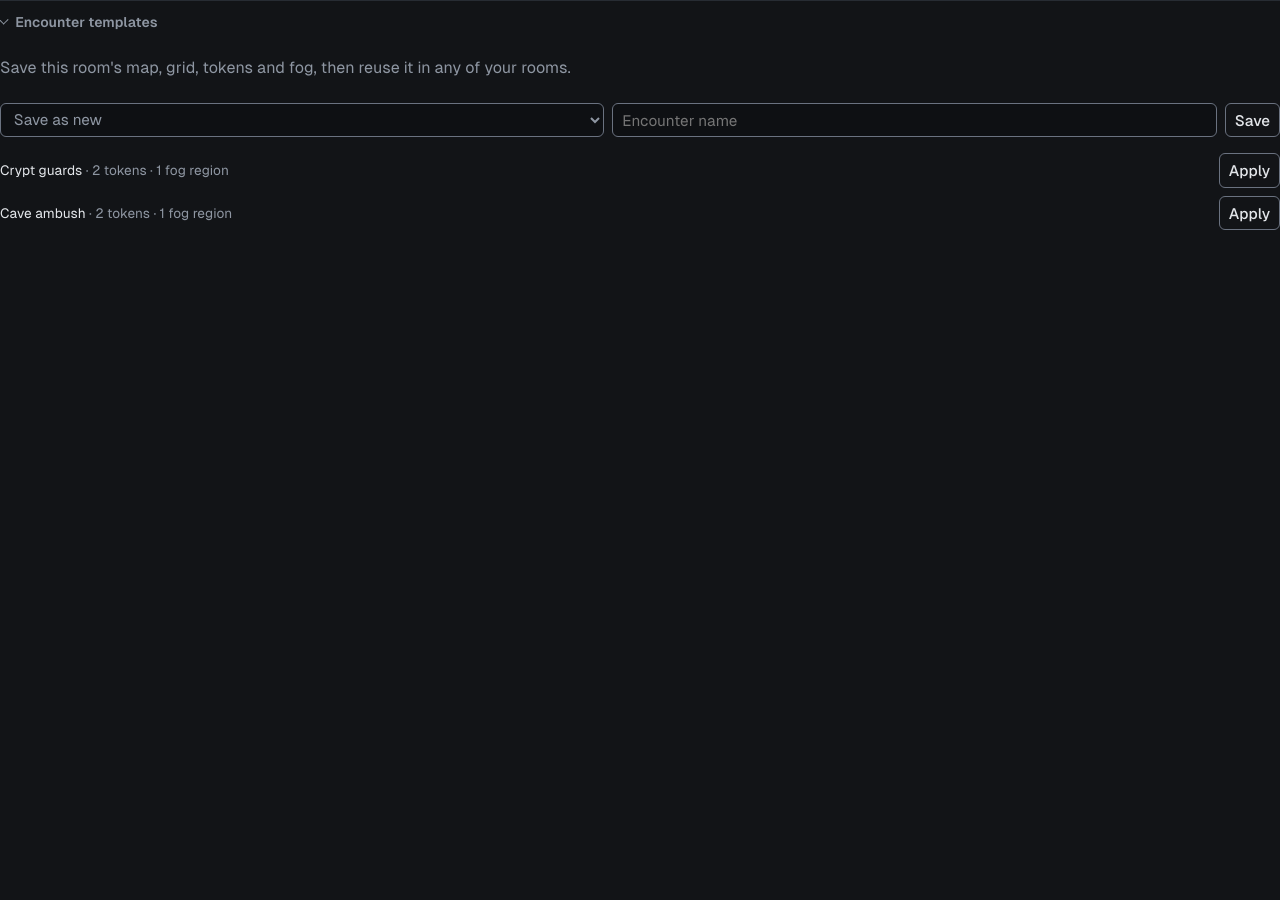
Scenario: replace a template from a room (encounter-templates, ADR 0033) › offers Replace for templates on this room's map, marks the others, and confirms first
This screenshot has width=1280, height=900.
Select "Replace Crypt guards" in the dropdown named "Save to": (302, 120) [0,103,604,137]
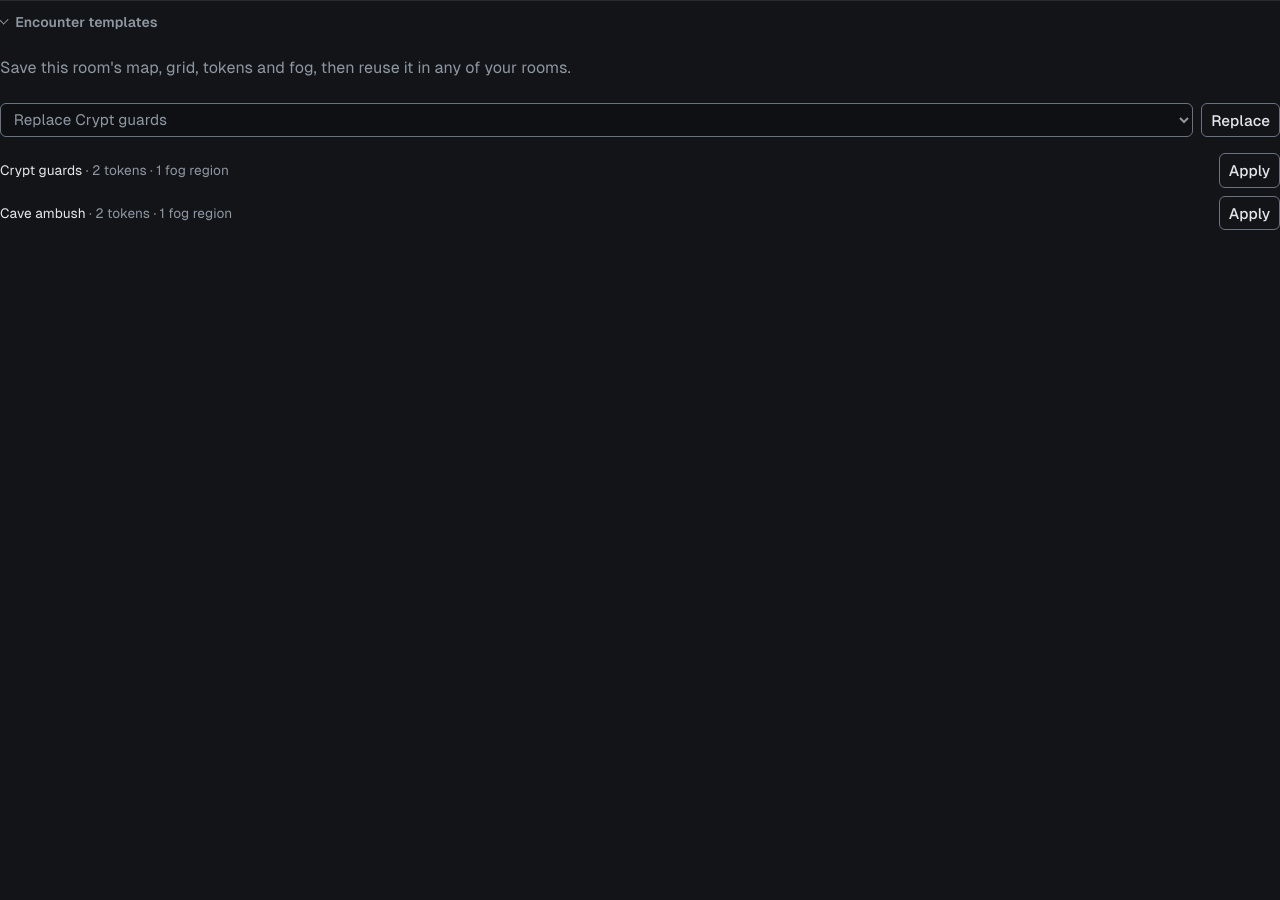
Click the button "Replace": (1241, 120) [1201,103,1279,138]
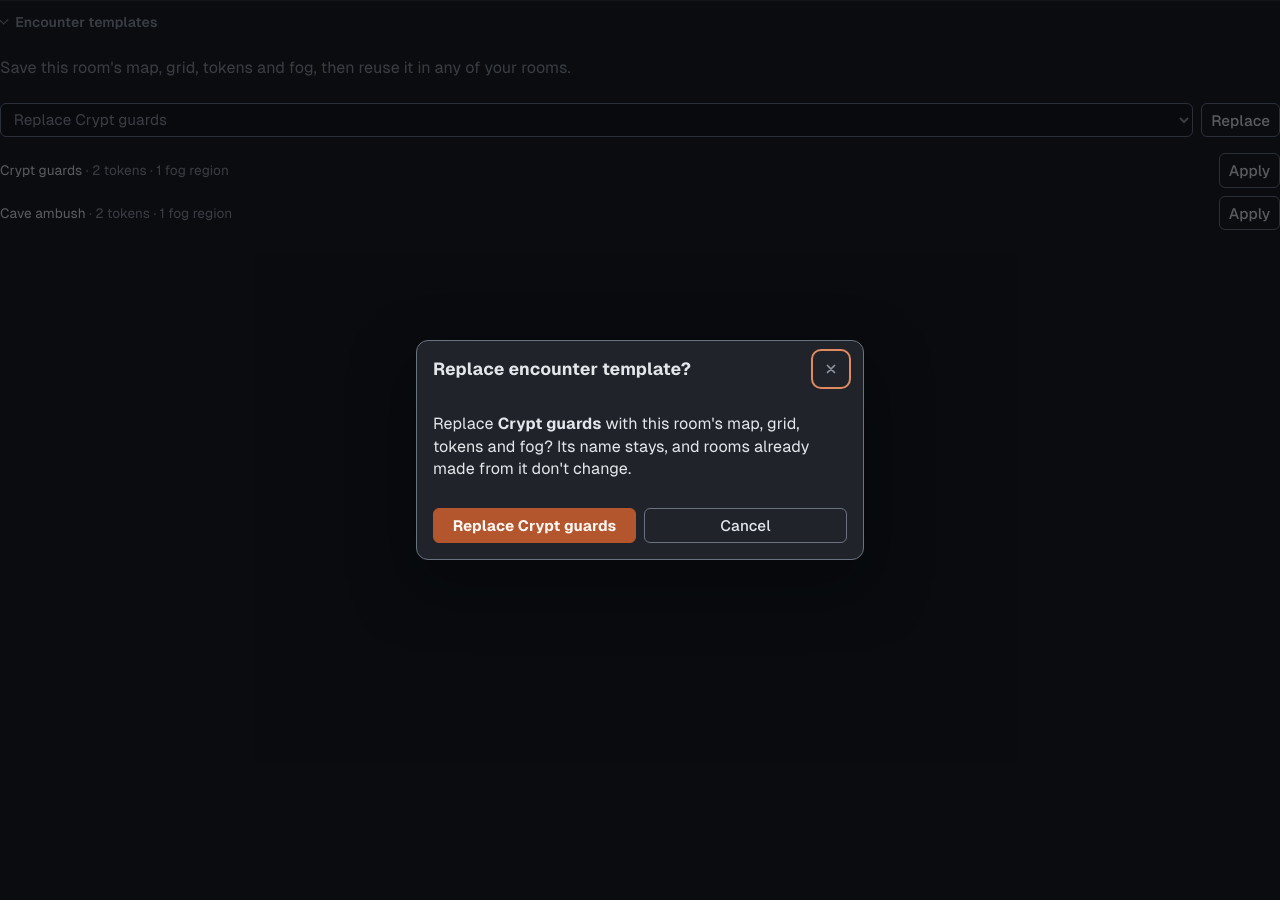
Click the button "Replace Crypt guards": (534, 526) [433,508,636,543]
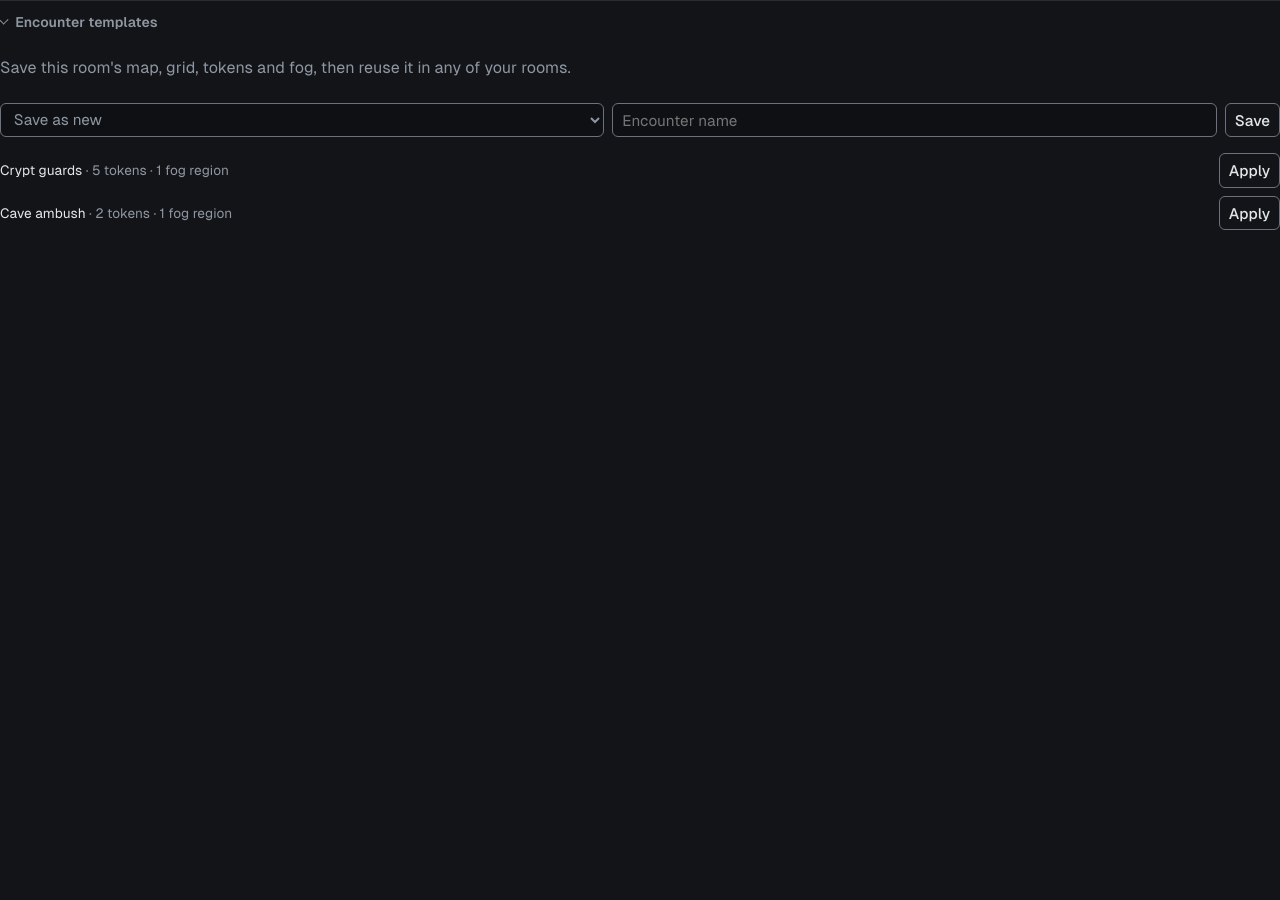
Now the text "· 5 tokens · 1 fog region" is shown, box [86,162,229,178]
